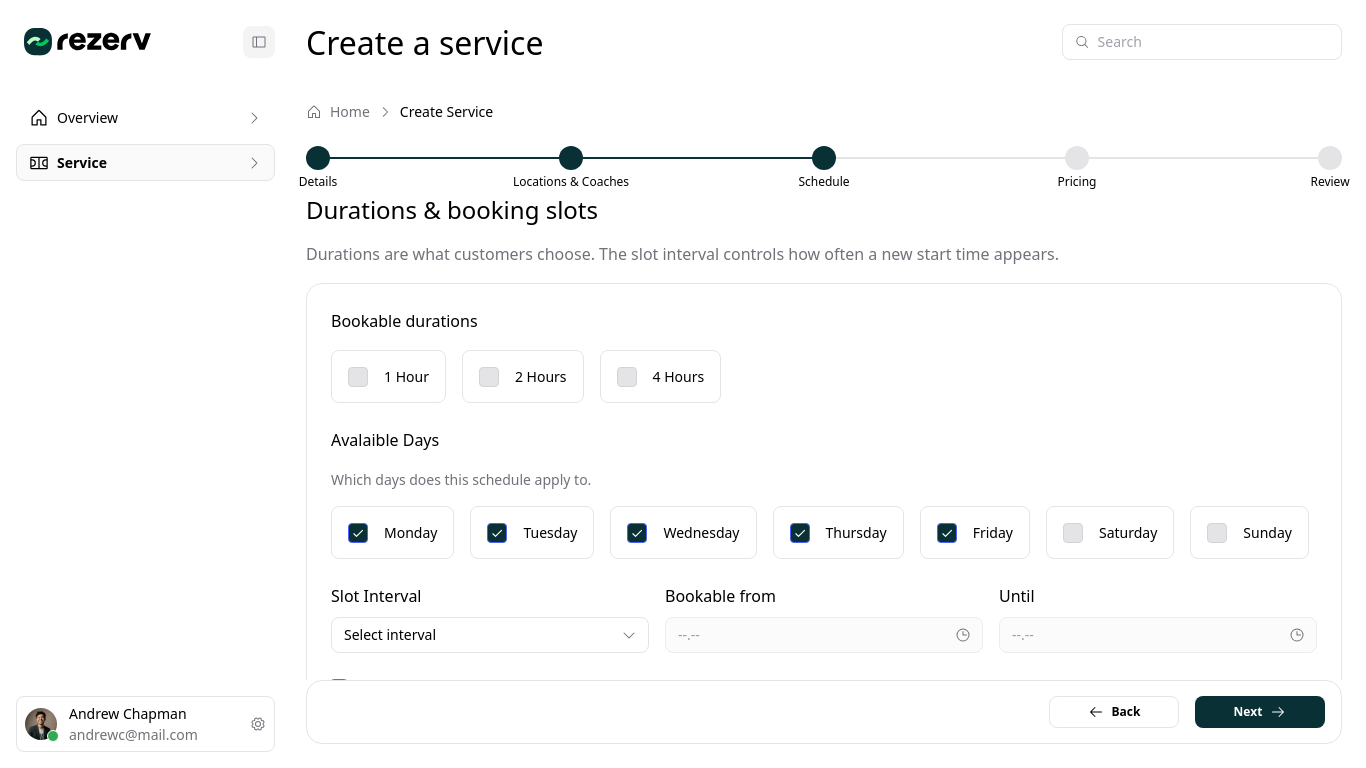
Test: renders duration checkboxes and generates start-time chips from the slot settings
Click the checkbox labelled "1 Hour" at point(388, 376), box [331,350,446,403]
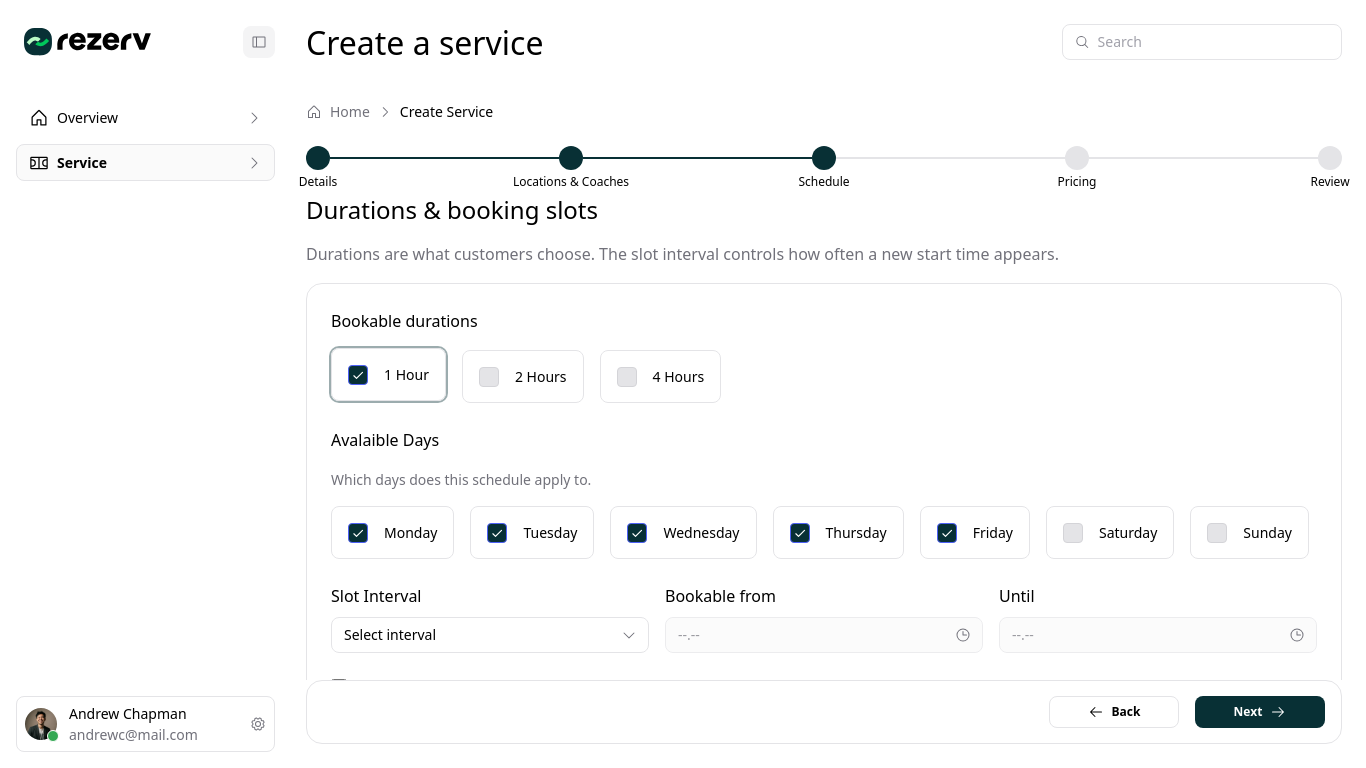
Result: the checkbox labelled "1 Hour" is checked at [331,348,446,401]
Select "Every 15 Min" in the dropdown labelled "Slot Interval" at point(490, 635), box [331,617,649,653]
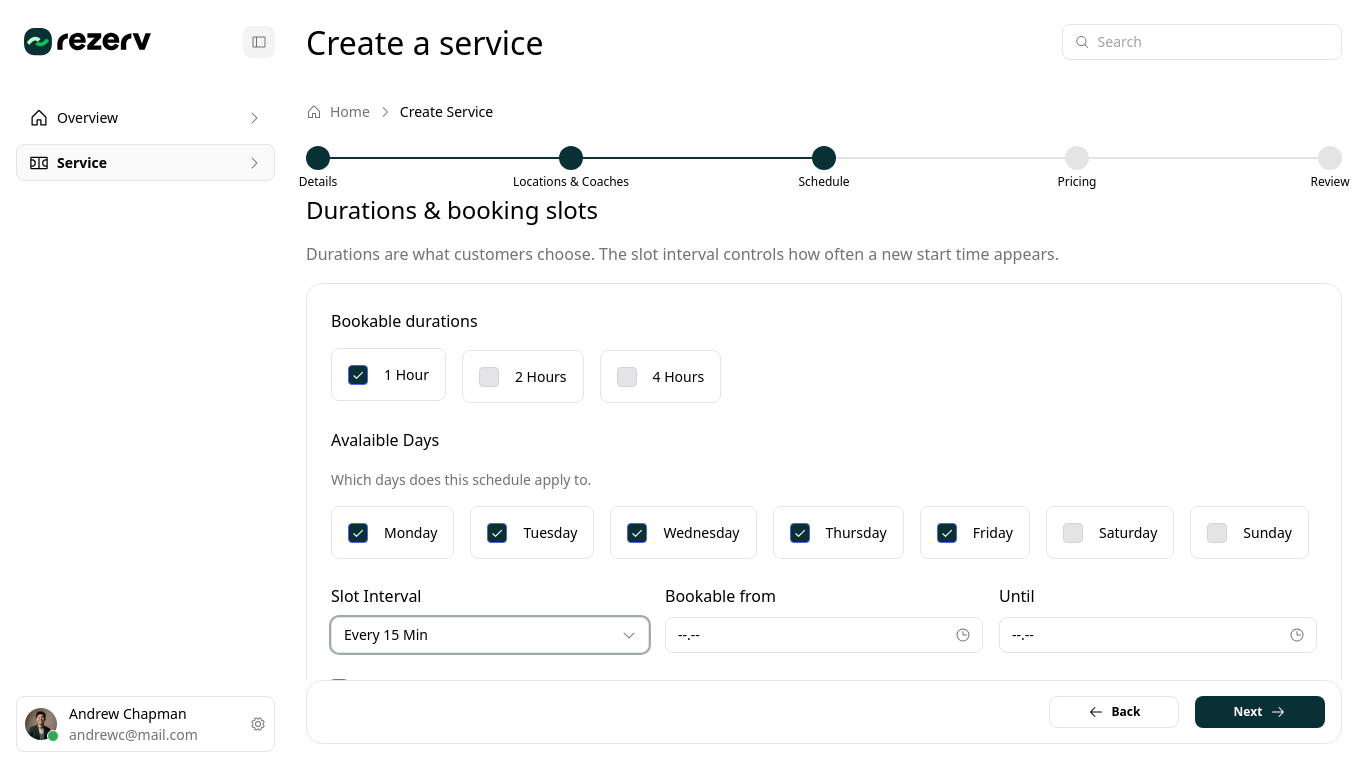
Select "12.15pm" in the dropdown labelled "Bookable from" at point(824, 635), box [665,617,983,653]
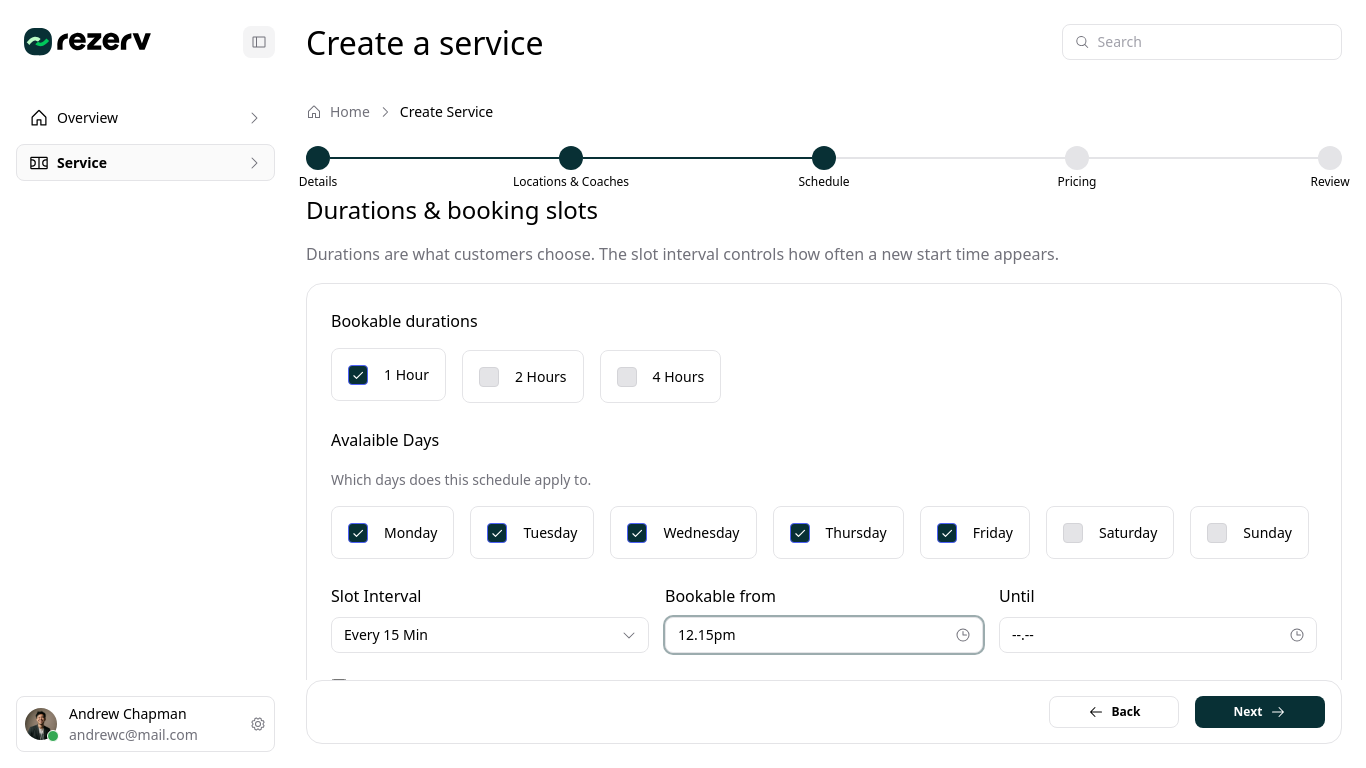
Select "1.30pm" in the dropdown labelled "Until" at point(1158, 635), box [999,617,1317,653]
(page scrolled)
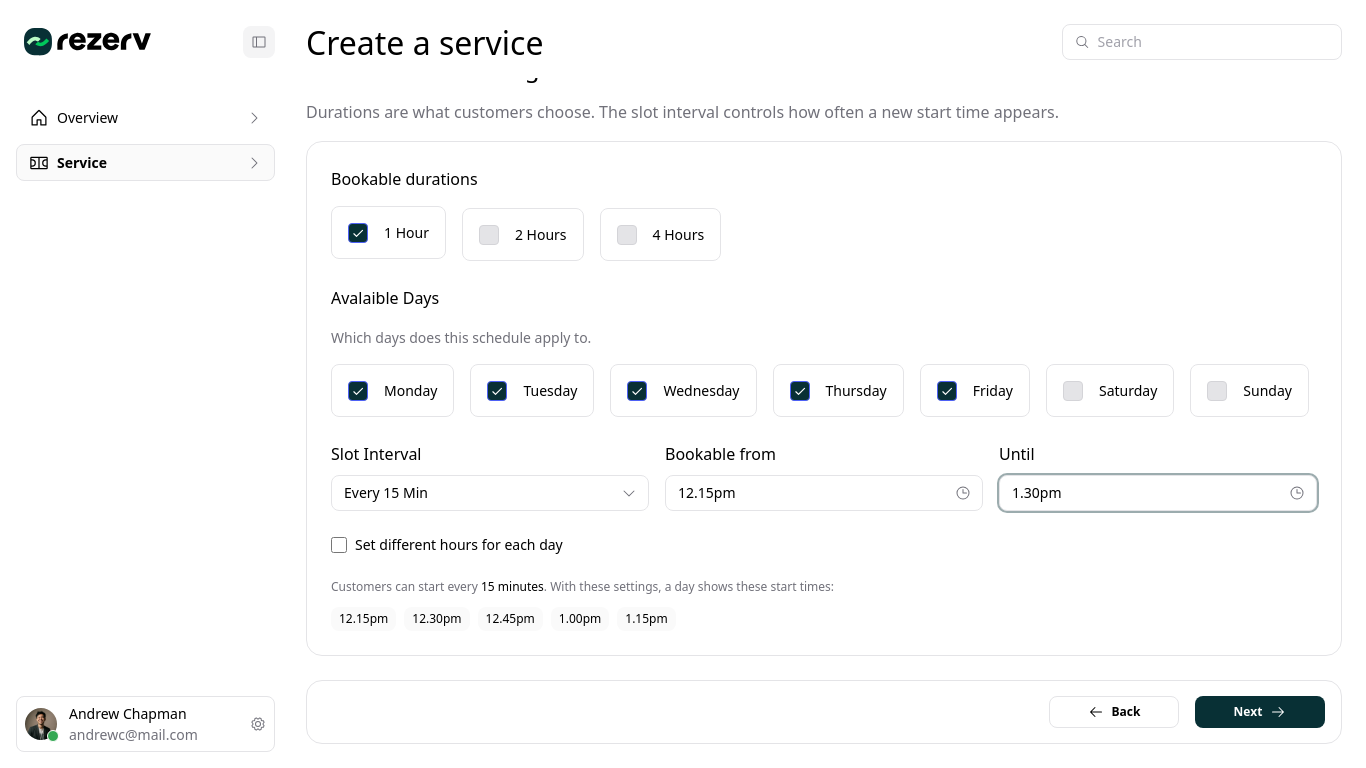
Result: the text "12.15pm" is shown at [331,607,396,631]
Result: the text "12.45pm" is shown at [478,607,543,631]
